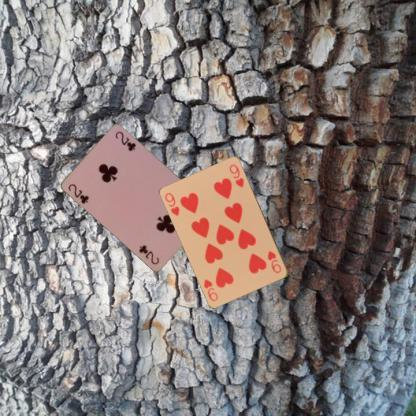2c: (66, 182, 90, 204)
9h: (162, 190, 181, 217), (265, 247, 283, 274)
